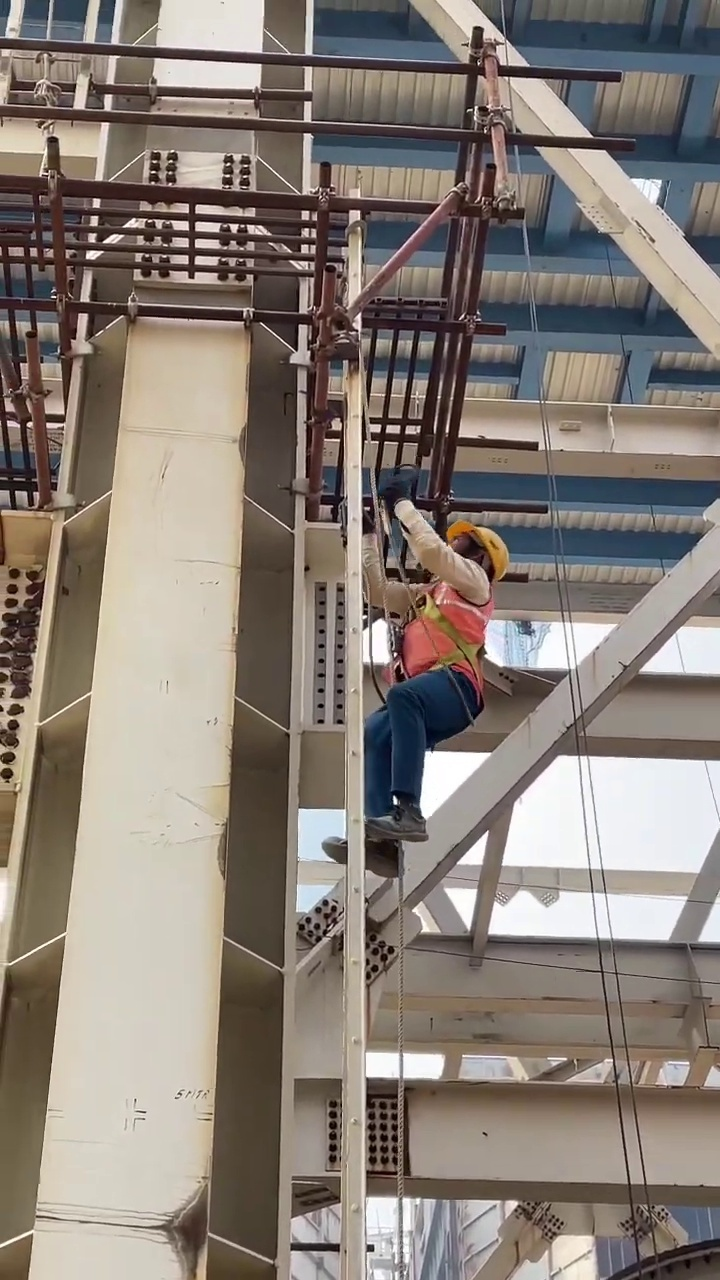Helmet: (446, 521, 511, 579)
Person: (304, 519, 512, 881)
Safety_Harness: (388, 565, 493, 728)
Safety_shoes: (322, 833, 403, 878), (365, 801, 429, 842)
